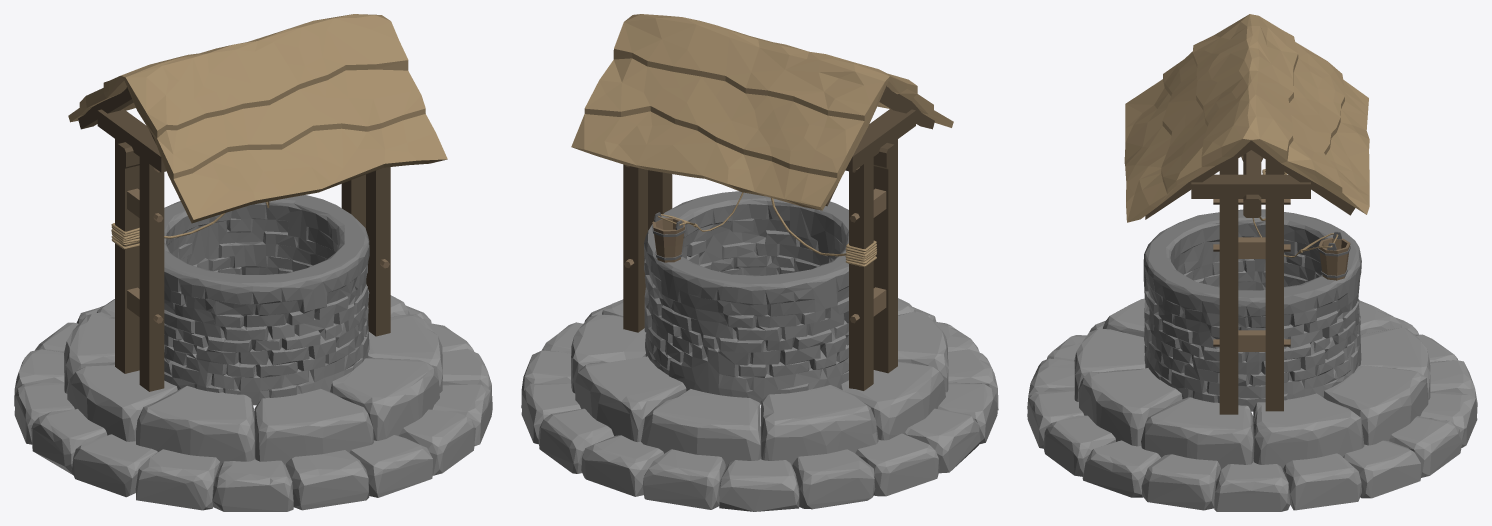
File: well_b.FBX
3 views of the same model, side by side, from view 1: azimuth 30°, elevation 25°; view 2: azimuth 150°, elevation 25°; view 3: azimuth 270°, elevation 25° (orthographic). The views are drawn at different scales.
Parts seen in each view (by area): view 1: well_b; view 2: well_b; view 3: well_b.
Boxes of the visible parts, <box> form: well_b: <box>14,14,492,511</box>; well_b: <box>521,14,998,511</box>; well_b: <box>1027,14,1477,511</box>.
Bounding box in the file's own units: 4.05 × 3.54 × 4.09.
